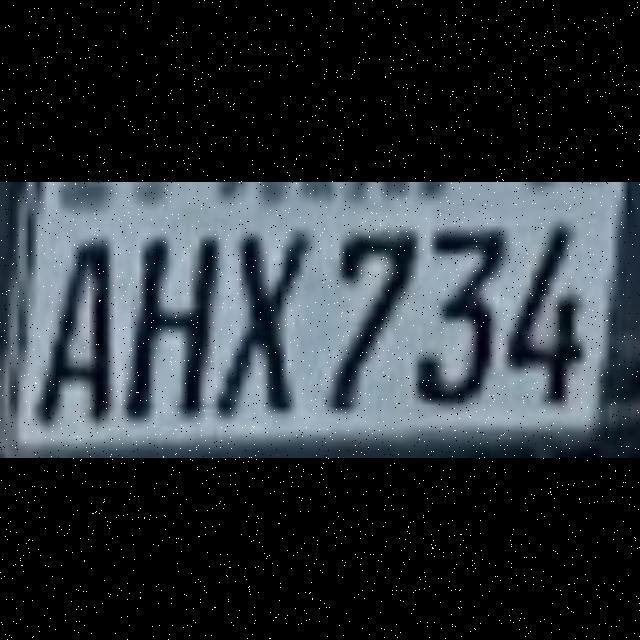3: (420, 214, 516, 432)
4: (518, 214, 612, 432)
7: (322, 214, 418, 432)
A: (32, 214, 126, 432)
H: (130, 214, 224, 432)
X: (228, 214, 322, 432)
